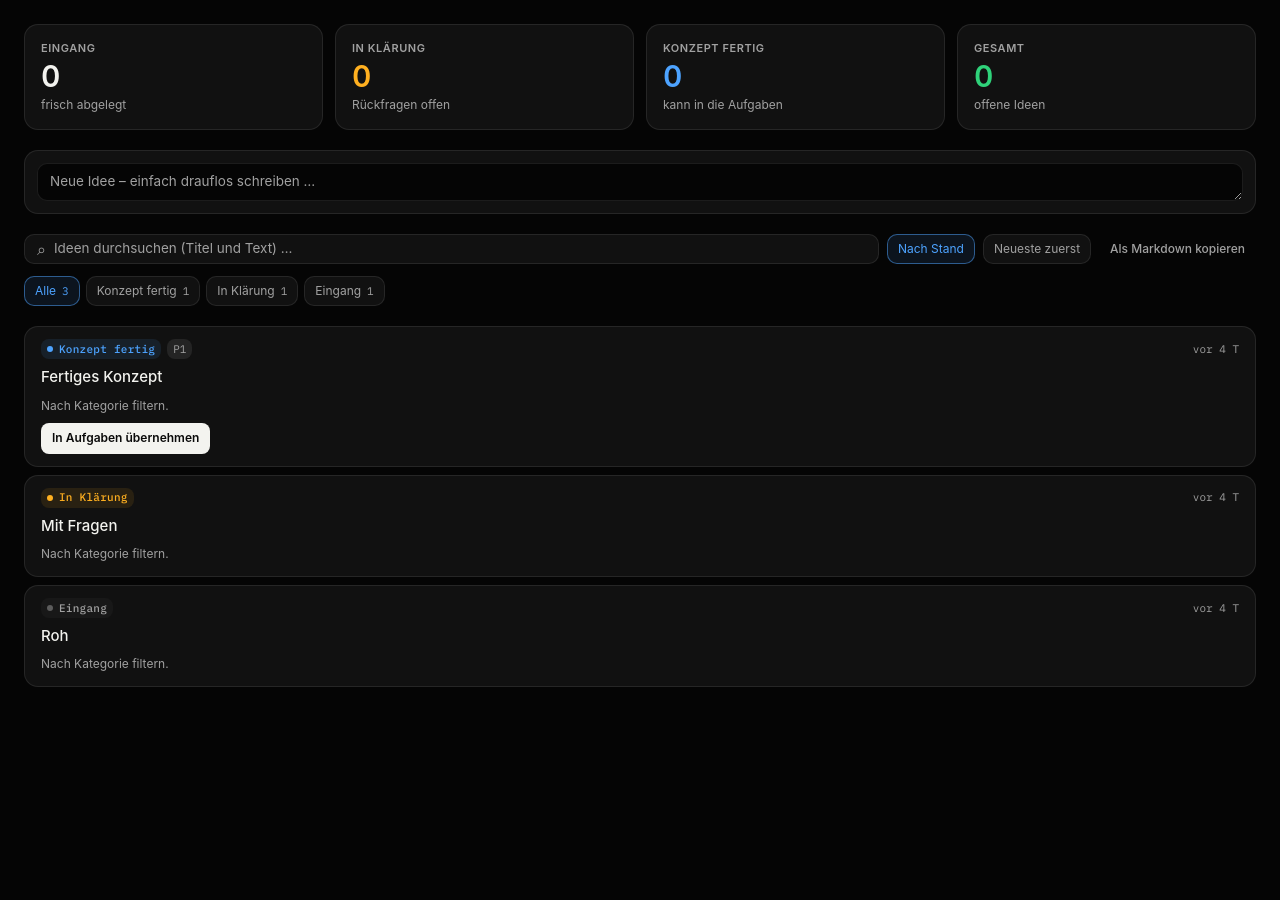
Scenario: Ideen-Liste › zeigt alle Stufen, Konzept fertig zuerst, und filtert per Chip
Expected: the button with test id "stage-in_klaerung" shows "1", [206,276,298,306]
What coordinates should you click on to do the following:
click the button with test id "stage-eingang"
I would click on:
 (344, 291)
Its box is [304,276,385,306].
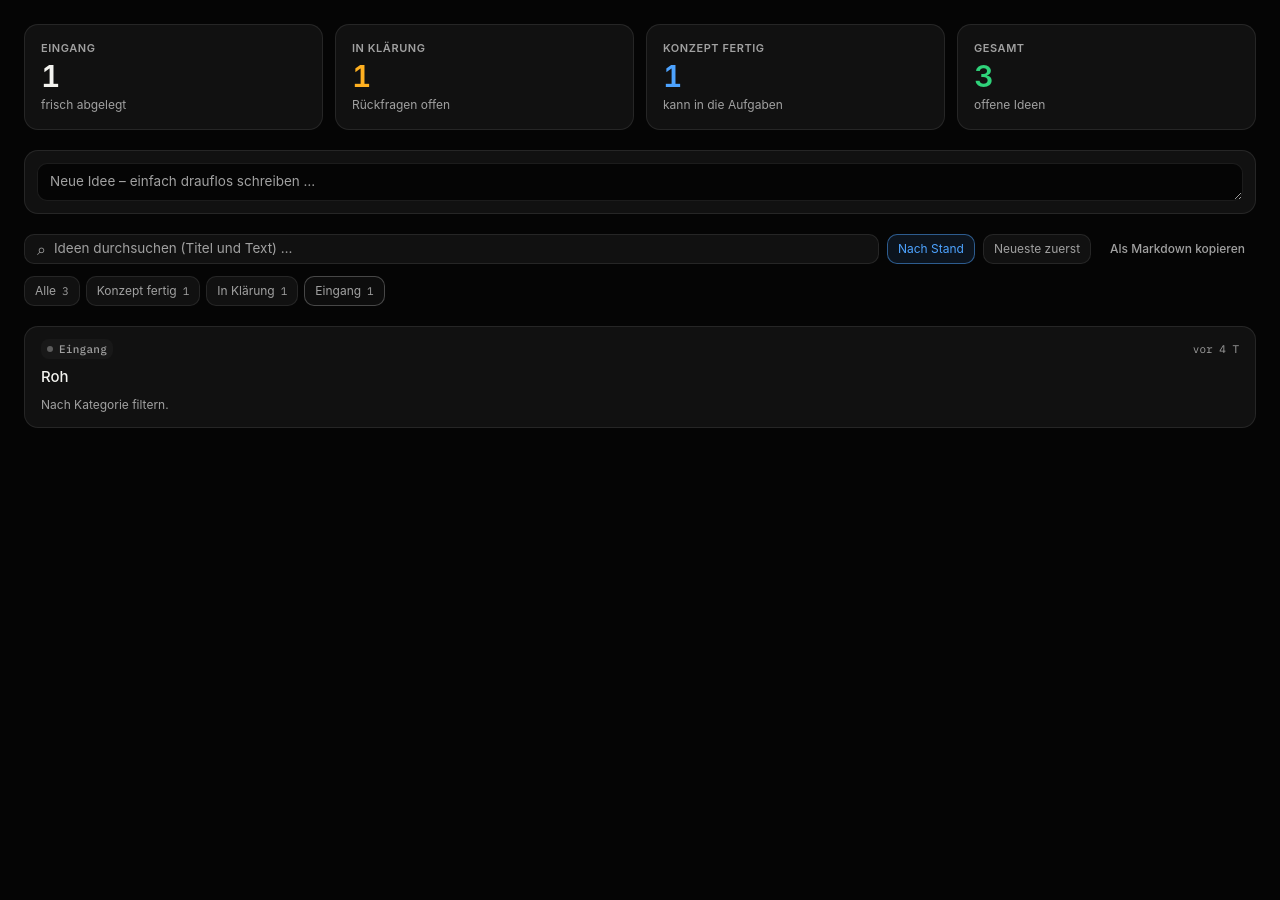
Expected: the text "Roh" is shown, [41,367,69,386]
Expected: the number of buttons with test id "idea-card" is 1, [24,326,1256,428]
